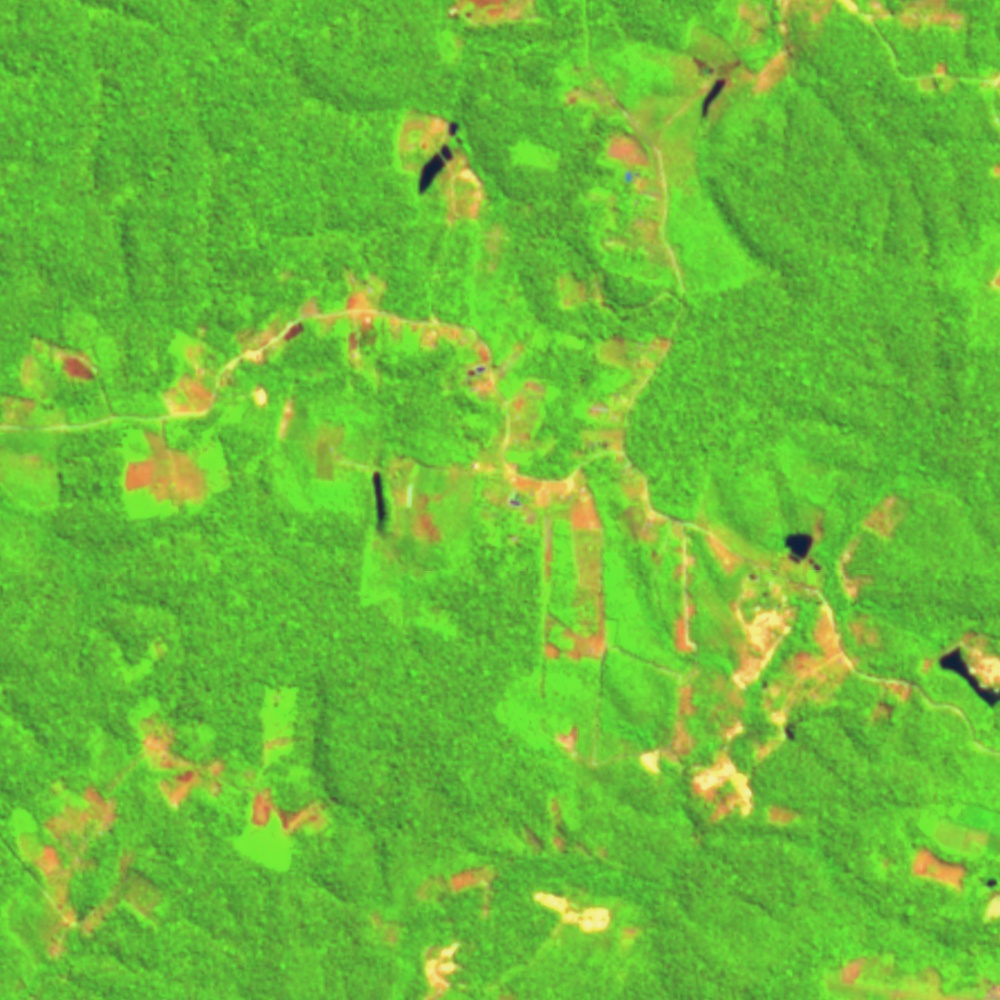legal: (627, 486, 908, 832), (555, 40, 770, 300), (256, 385, 474, 628), (490, 459, 618, 763), (234, 273, 525, 373), (1, 779, 165, 954), (93, 623, 227, 810), (236, 680, 335, 876), (559, 330, 674, 483), (661, 14, 798, 123), (115, 421, 237, 519), (906, 803, 1000, 924), (396, 106, 488, 225), (731, 1, 969, 47), (831, 949, 1000, 1000), (520, 802, 631, 879), (918, 619, 1000, 713), (1, 388, 66, 504), (155, 330, 234, 417), (466, 374, 546, 459), (530, 889, 642, 947), (413, 861, 496, 923), (19, 334, 103, 385), (553, 258, 611, 310), (447, 1, 549, 29), (423, 937, 468, 1000), (917, 59, 956, 90), (368, 907, 403, 939), (768, 805, 809, 826)
